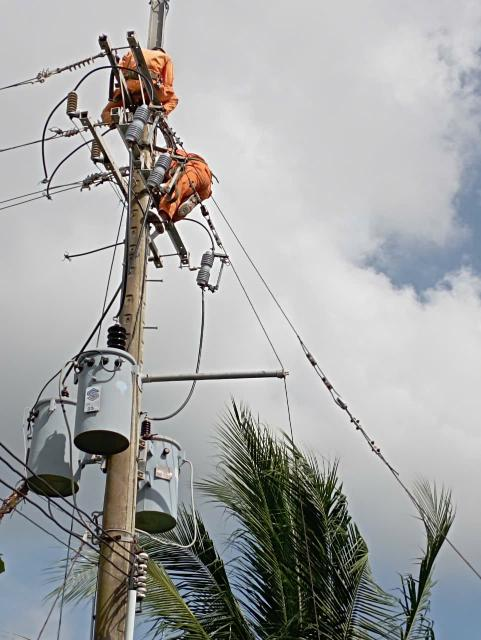harness: (114, 62, 163, 83), (174, 151, 216, 172)
shoes: (141, 208, 170, 236)
